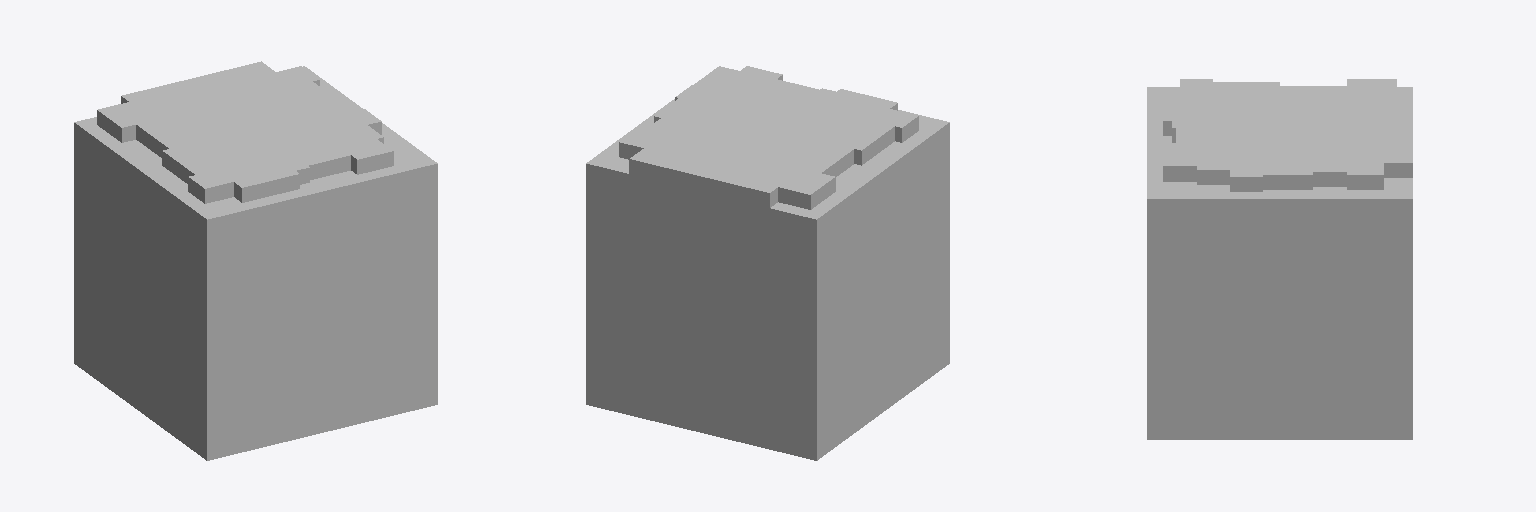
Rendered from GrassPath1End.obj.
3 renders of one model, left to right at view 1: azimuth 30°, elevation 25°; view 2: azimuth 150°, elevation 25°; view 3: azimuth 270°, elevation 25°, orthographic.
Parts seen in each view (by area): view 1: cube; view 2: cube; view 3: cube.
Boxes of the visible parts, <box> form: cube: <box>74,61,437,460</box>; cube: <box>586,66,949,460</box>; cube: <box>1147,79,1412,439</box>.
Size of the model in its own units: 1 by 1.06 by 1.